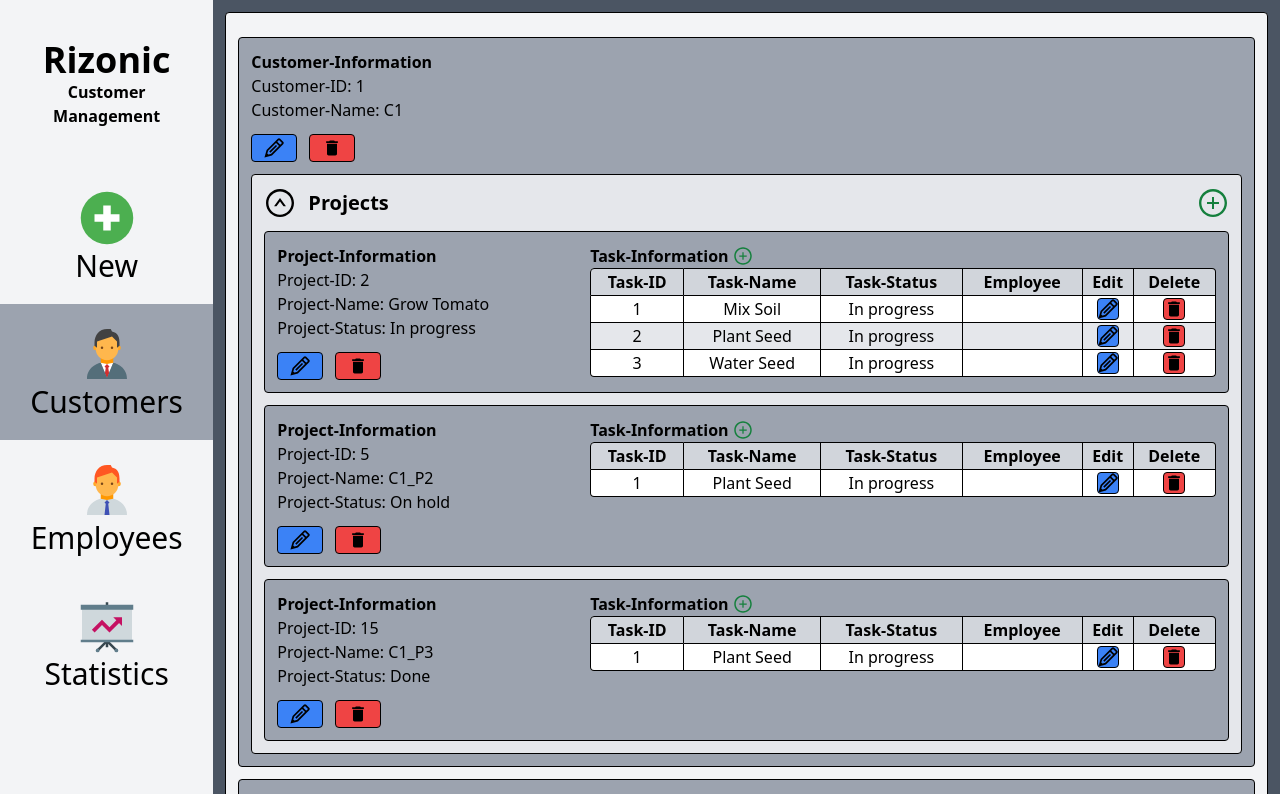
Test: project › close project dropdown
The image size is (1280, 794).
Click the icon with test id "close-project-dropdown" at (280, 203), box [264,187,296,219]
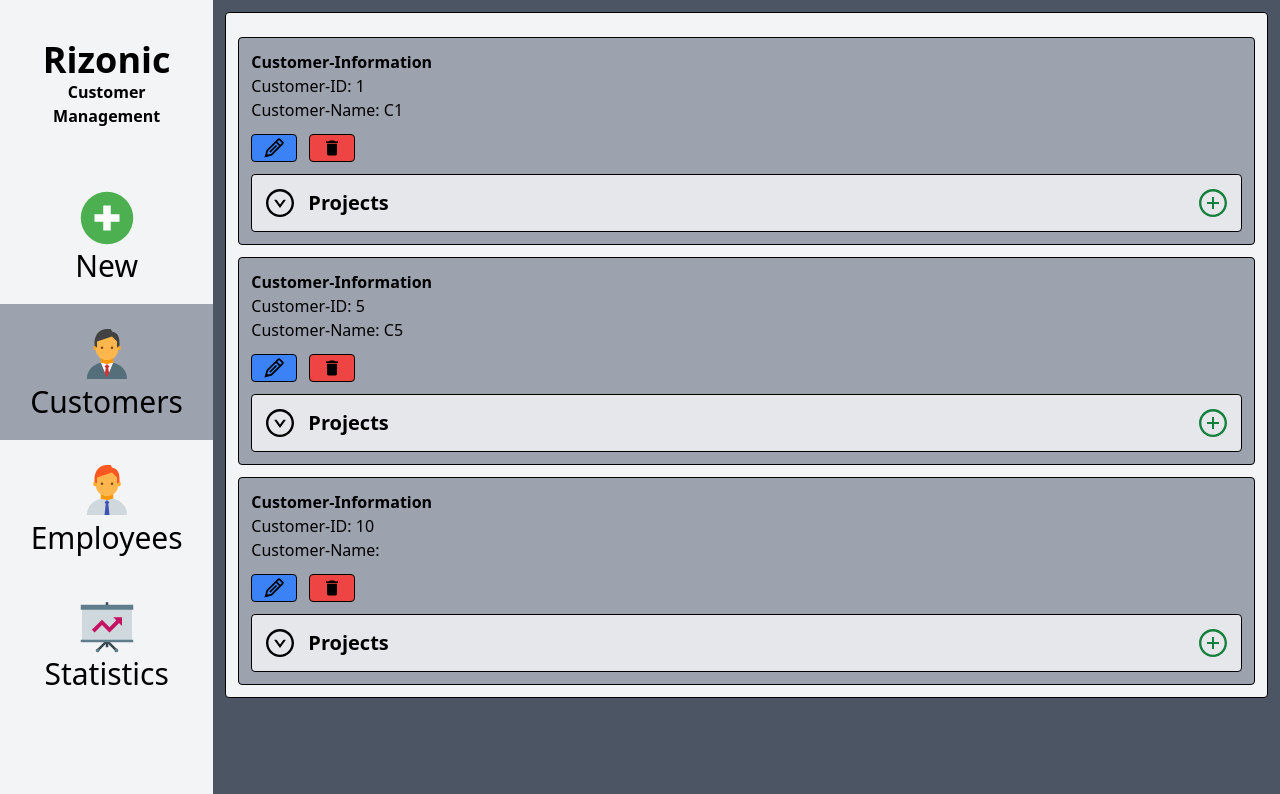
Result: the heading with test id "project-information" is gone
